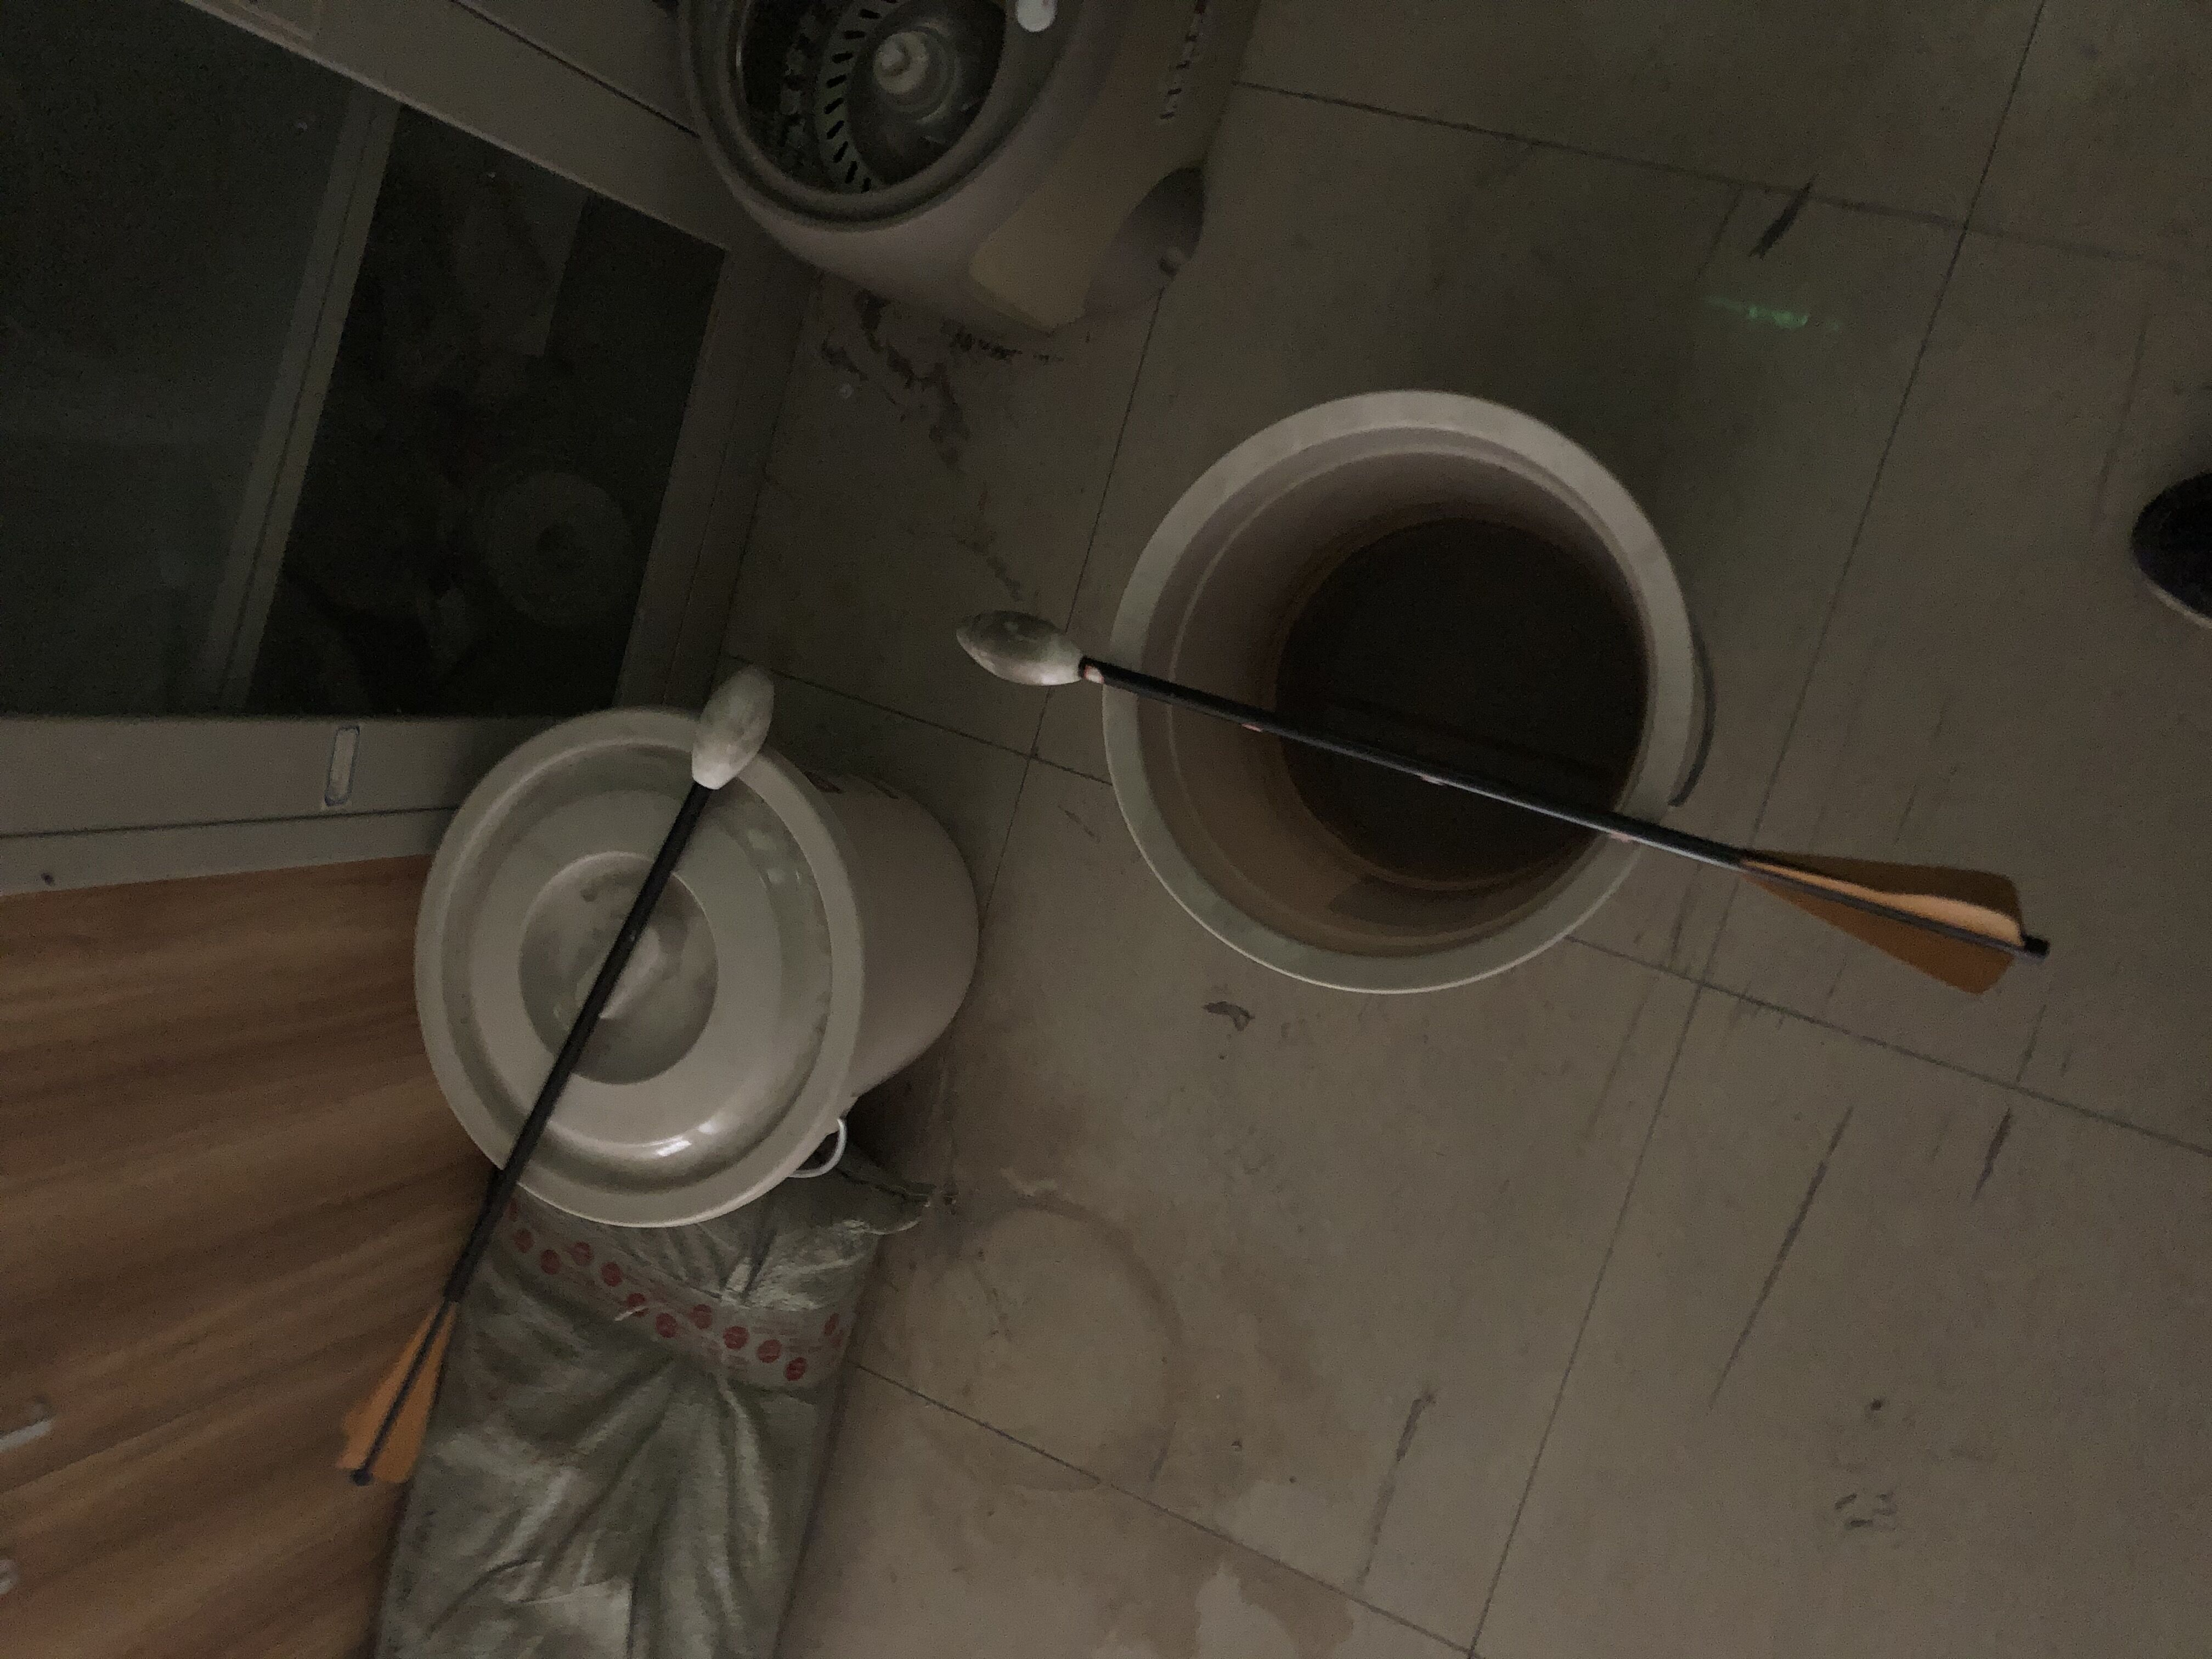arrow: (953, 608, 2055, 1002), (338, 662, 775, 1485)
arrowFront: (688, 660, 773, 795), (951, 605, 1087, 688)
